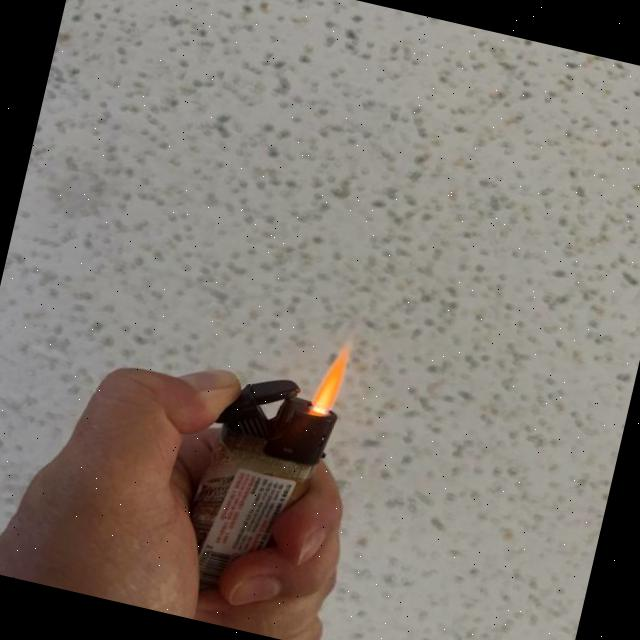fire: (308, 346, 352, 414)
